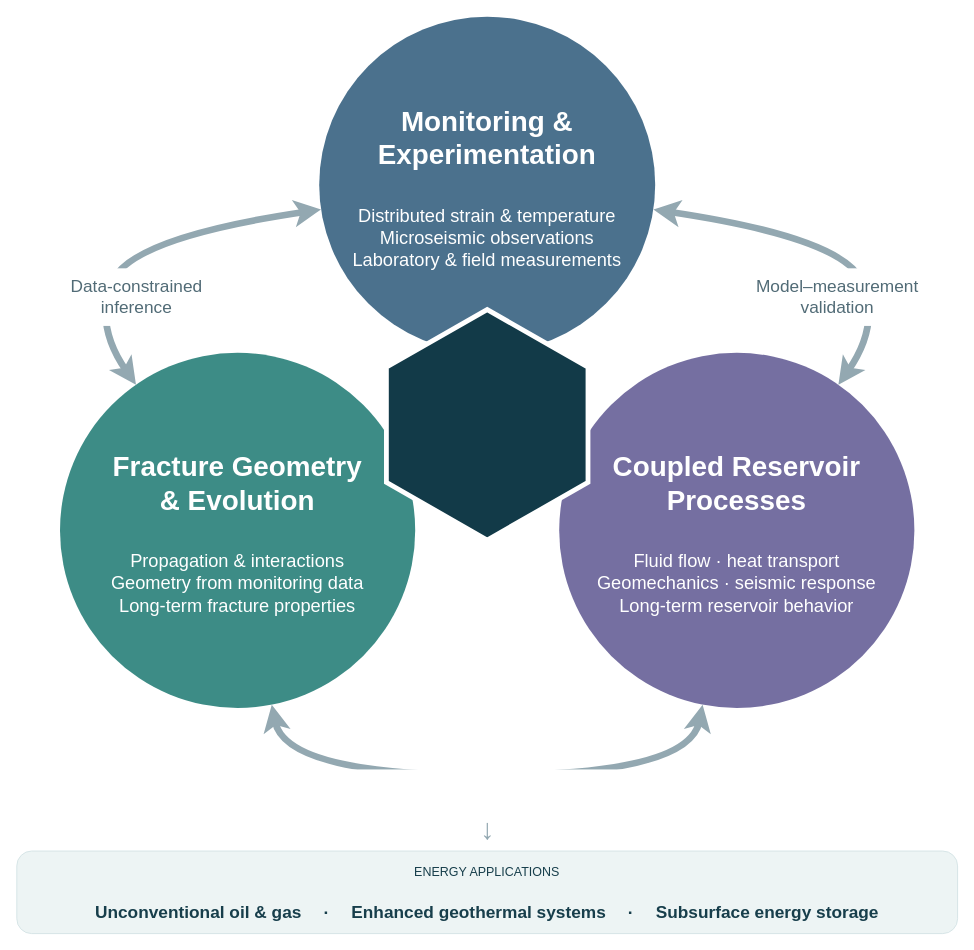
Some shapes in this 974 by 950 pixel diagram are drawn without their labels. The centre of each missing label's shape, as x and y in pixels:
Geometry & properties ↔ Physics-based interpretation: pixel 487 789
SEEDS Fractured subsurface reservoirs: pixel 487 424
